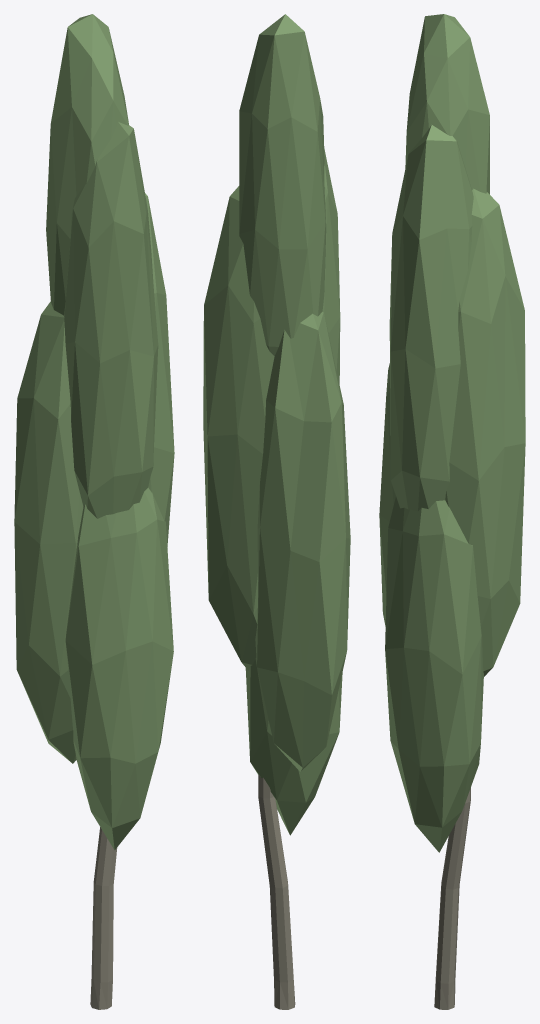
Rendered from poplar.fbx.
3 renders of one model, left to right at view 1: azimuth 30°, elevation 25°; view 2: azimuth 150°, elevation 25°; view 3: azimuth 330°, elevation 25°, orthographic.
Parts seen in each view (by area): view 1: poplar; view 2: poplar; view 3: poplar.
Boxes of the visible parts, left/top/right/bottom form: poplar: left=14, top=14, right=174, bottom=1009; poplar: left=203, top=14, right=350, bottom=1009; poplar: left=379, top=14, right=525, bottom=1009.
Size of the model in its own units: 3 by 20 by 2.32.
